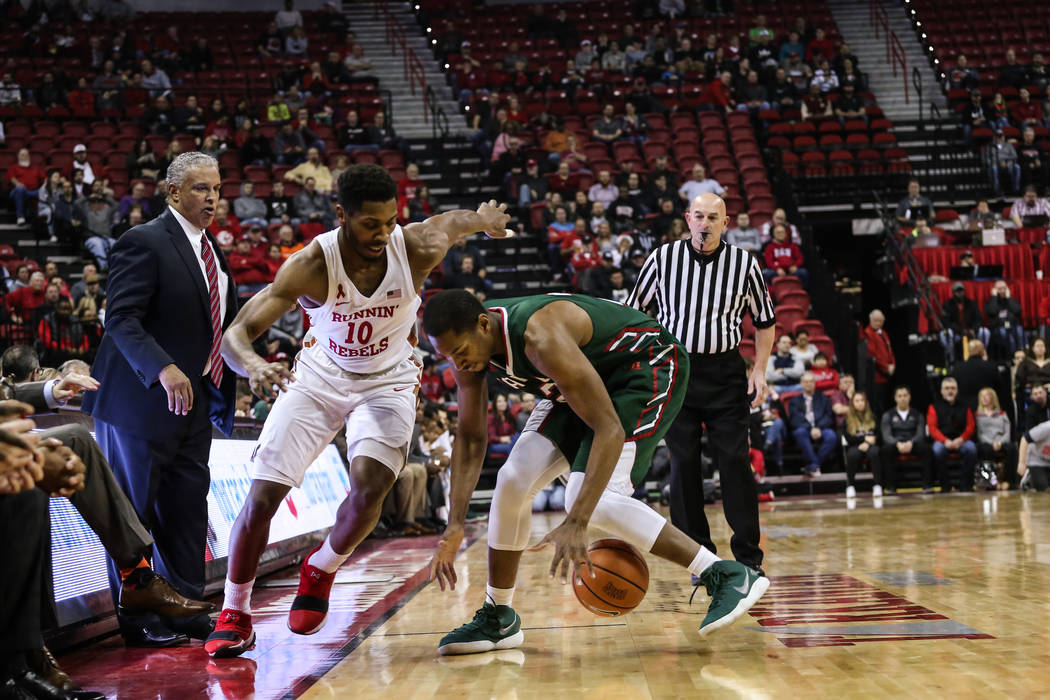ball: (577, 549, 644, 614)
player: (421, 301, 767, 662), (212, 185, 450, 649)
referee: (657, 203, 753, 509)
